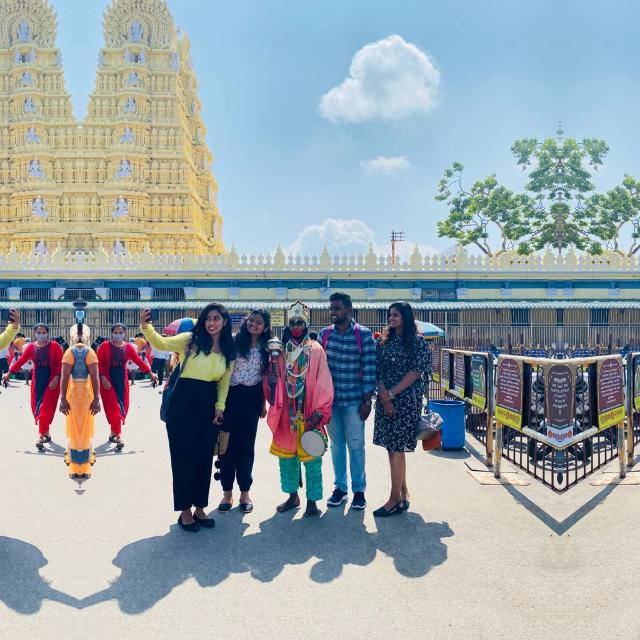person: (154, 293, 232, 561), (370, 292, 452, 546), (322, 277, 382, 543), (237, 301, 289, 544), (0, 293, 6, 561)
